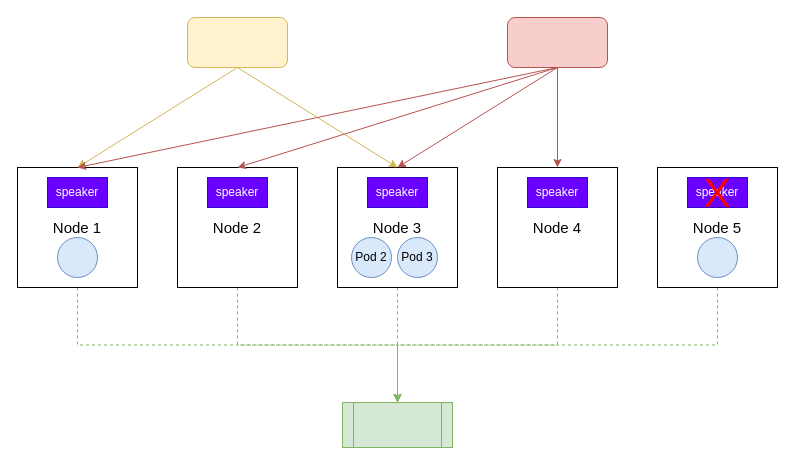
Some shapes in this 795 by 465 pixel diagram are drawn without their labels. The centre of each missing label's shape, as x and y in pixels:
"Cluster" goes at point 557,42.
"Local" goes at point 237,42.
"Pod 1" goes at point 77,257.
"Pod 4" goes at point 717,257.
"Subnet A" goes at point 397,425.
